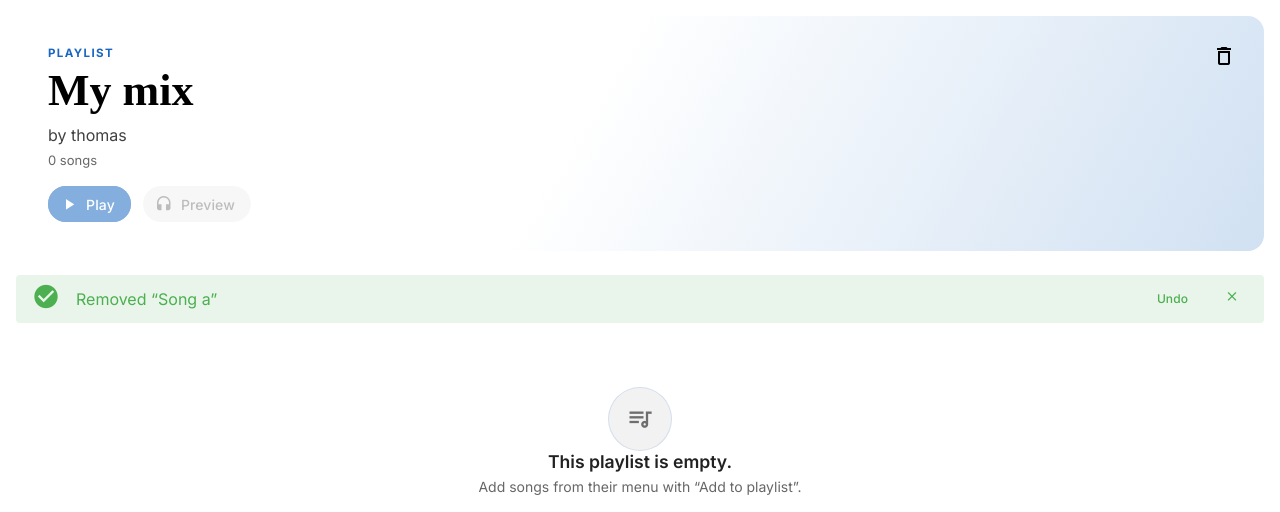
Test: PlaylistDetailView › removing songs › says so instead of showing a headings row when the last track goes
The width and height of the screenshot is (1280, 512).
Expected: the element that starts with "Playlist" shows "This playlist is empty.", [548, 451, 732, 472]
Click the button "Undo".
click(1172, 299)  # box [1145, 285, 1200, 313]
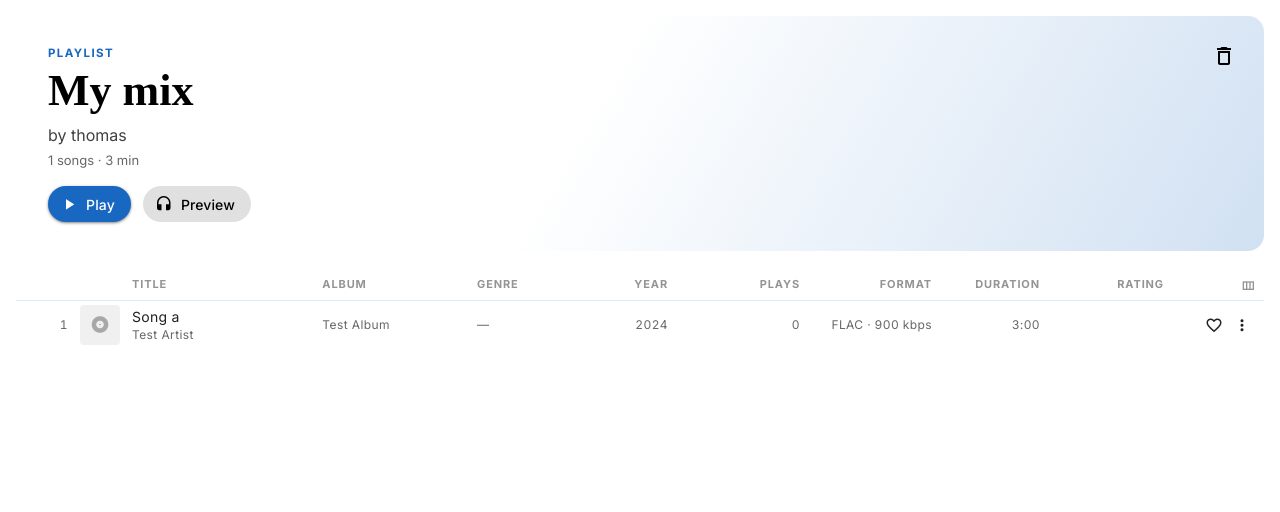
Expected: the element that starts with "Title" is shown, [16, 275, 1264, 349]
